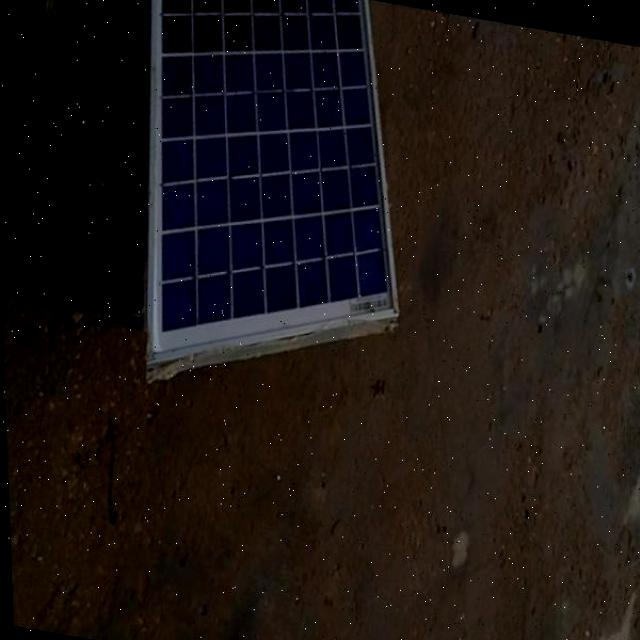Normal Solar Panel: (85, 0, 443, 397)
